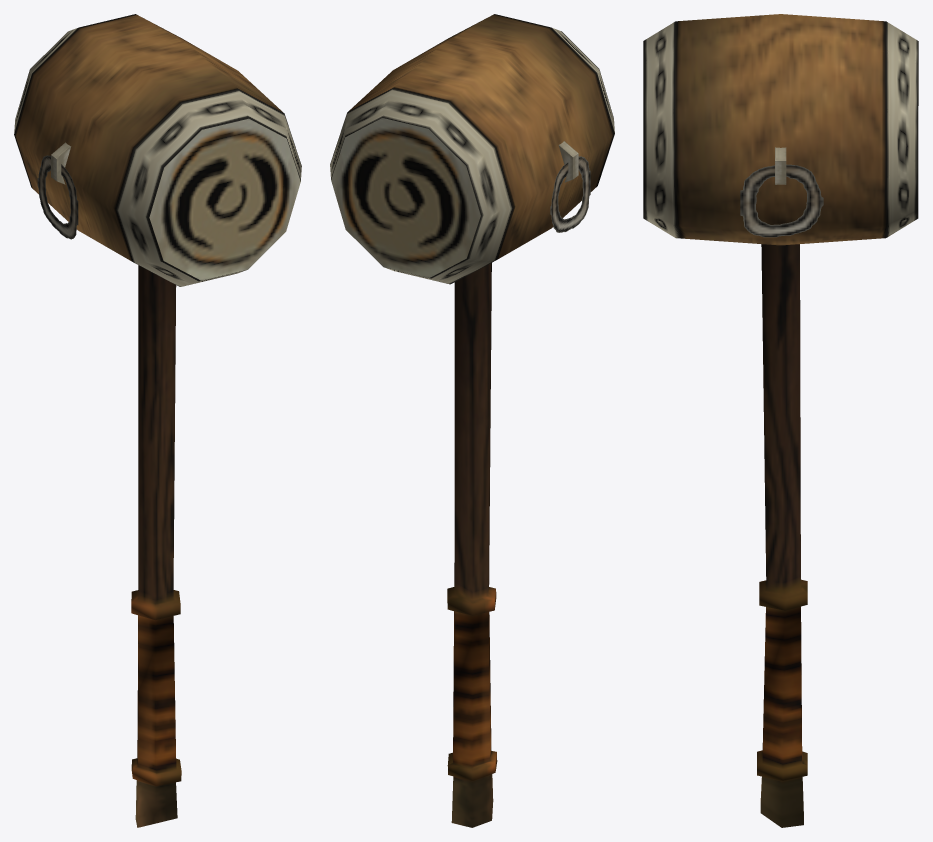
The model's file is WP_2H_GreatMaul03.FBX.
The picture shows the model from 3 angles, left to right: view 1: azimuth 30°, elevation 25°; view 2: azimuth 150°, elevation 25°; view 3: azimuth 270°, elevation 25°; orthographic projection. The views are drawn at different scales.
Parts seen in each view (by area): view 1: WP_2H_GreatMaul03; view 2: WP_2H_GreatMaul03; view 3: WP_2H_GreatMaul03.
Boxes of the visible parts, x1,y1,x2,y2 form: WP_2H_GreatMaul03: [14, 14, 301, 827]; WP_2H_GreatMaul03: [330, 14, 614, 827]; WP_2H_GreatMaul03: [643, 14, 918, 827].
Size of the model in its own units: 42.11 by 151 by 47.49.
